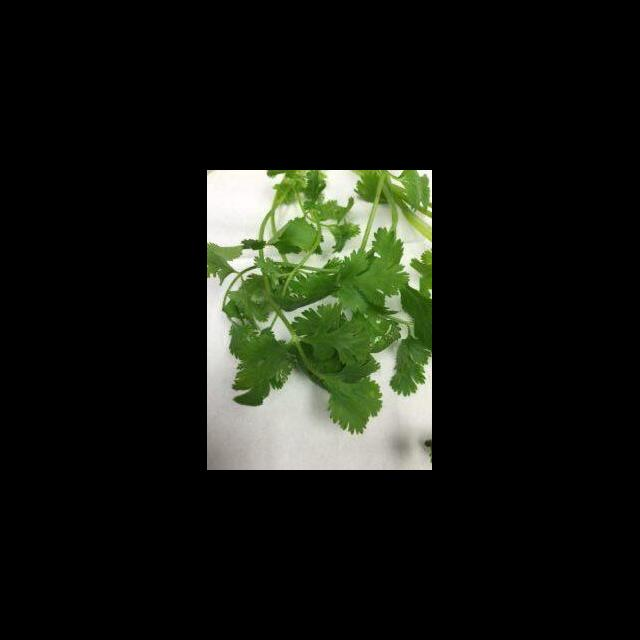cilantro: (208, 170, 432, 436)
